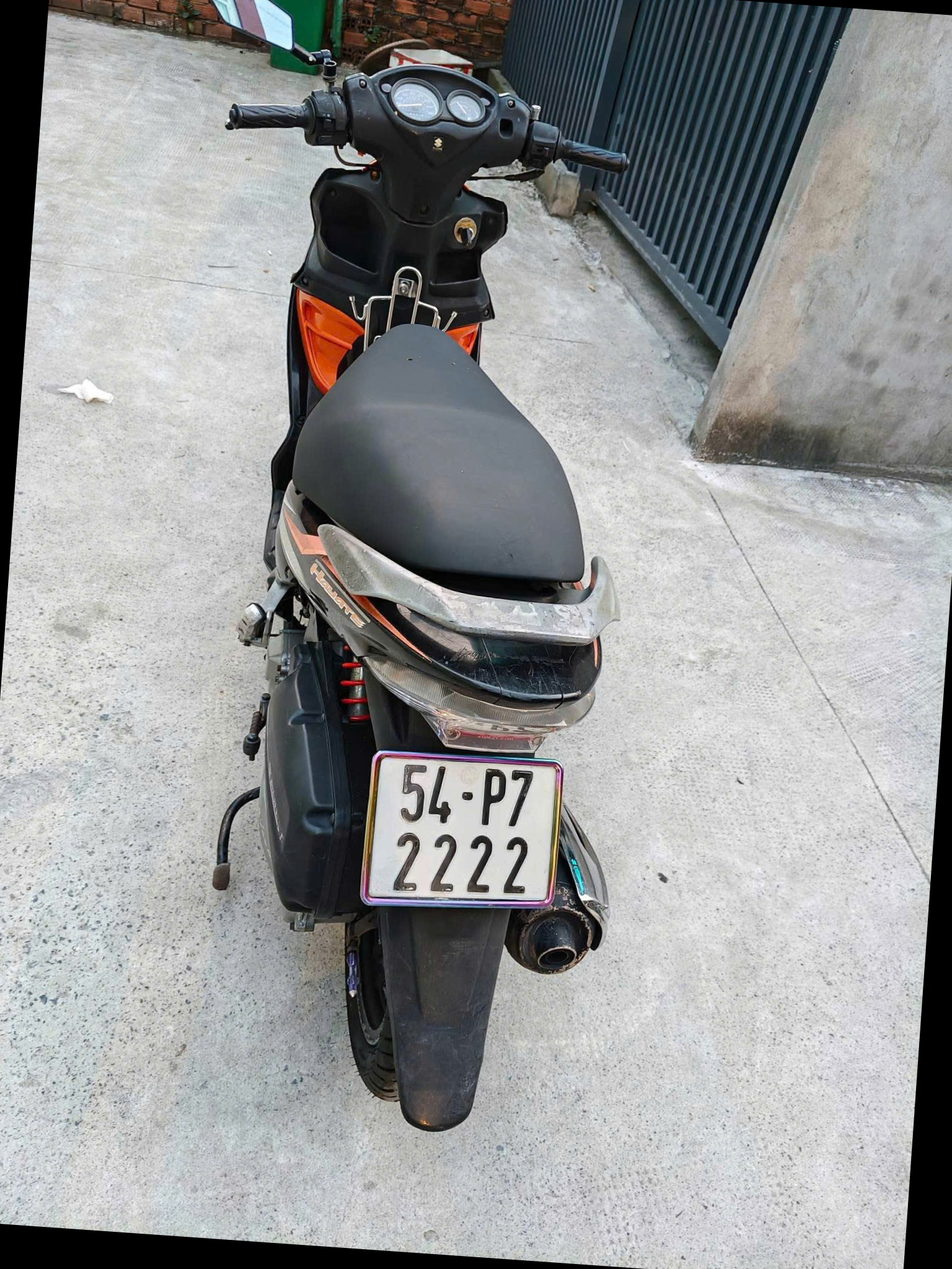Bien-so: (382, 768, 575, 928)
